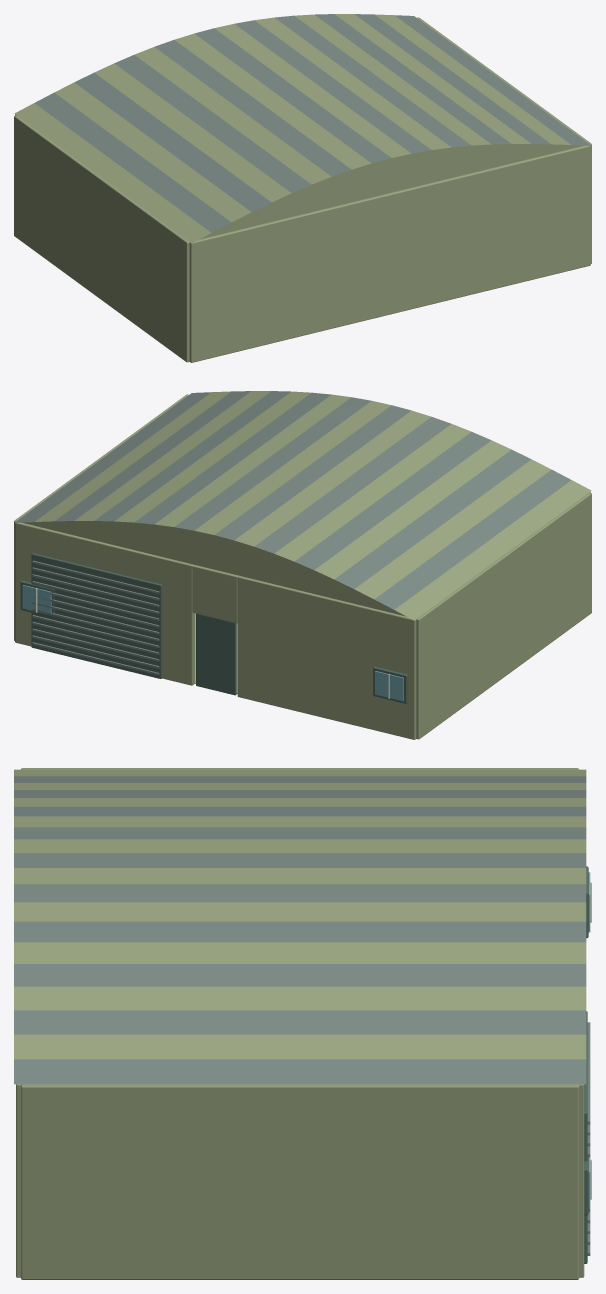
The model's file is military-hangar.glb.
3 renders of one model, top to bottom at view 1: azimuth 30°, elevation 25°; view 2: azimuth 150°, elevation 25°; view 3: azimuth 270°, elevation 25°, orthographic. The views are drawn at different scales.
Parts seen in each view (by area): view 1: shell-wall, roof-wall, roof-steel; view 2: shell-wall, roof-wall, roof-steel, shell-trim, shell-steel, entry door, shell-glass; view 3: shell-wall, roof-steel, roof-wall, shell-trim, shell-steel.
Part boxes in pixels (left/top/right/bottom): shell-wall: left=14, top=17, right=591, bottom=362; roof-wall: left=14, top=14, right=570, bottom=243; roof-steel: left=34, top=14, right=591, bottom=232; shell-wall: left=14, top=394, right=591, bottom=739; roof-wall: left=35, top=391, right=591, bottom=620; roof-steel: left=14, top=391, right=571, bottom=609; shell-trim: left=20, top=553, right=407, bottom=703; shell-steel: left=32, top=560, right=159, bottom=675; entry door: left=196, top=613, right=236, bottom=695; shell-glass: left=22, top=585, right=403, bottom=701; shell-wall: left=16, top=768, right=584, bottom=1279; roof-steel: left=14, top=776, right=586, bottom=1084; roof-wall: left=14, top=769, right=586, bottom=1059; shell-trim: left=584, top=866, right=588, bottom=1263; shell-steel: left=587, top=1022, right=590, bottom=1255.
Size of the model in its own units: 16.22 by 6.01 by 12.43.
